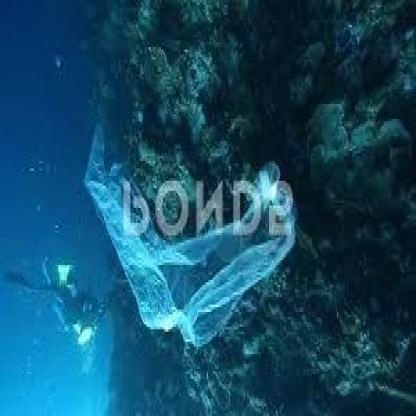pbag: (79, 114, 301, 349)
